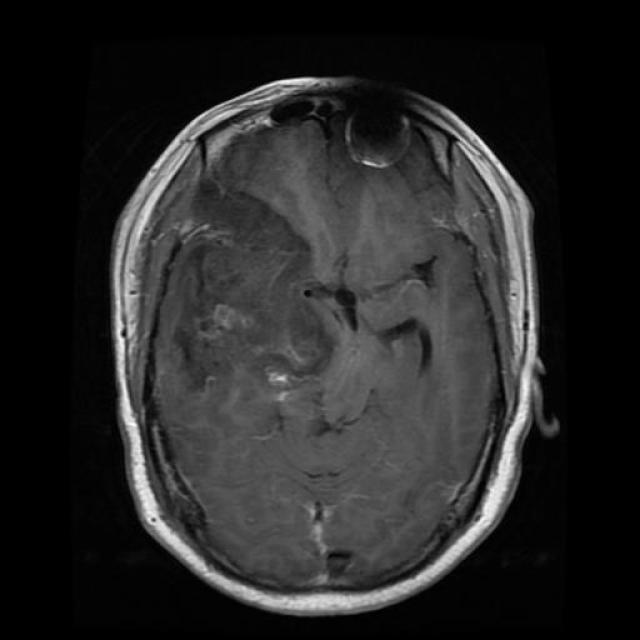glioma: (314, 102, 424, 206)
